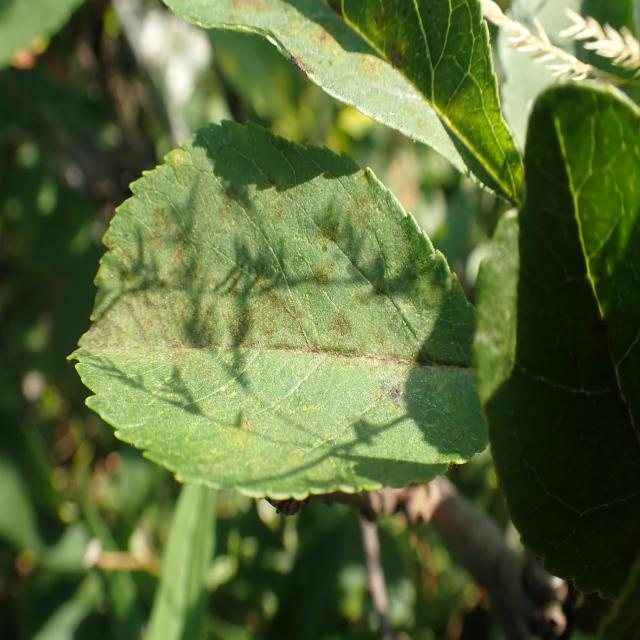scab: (66, 143, 481, 491), (176, 0, 422, 132)
